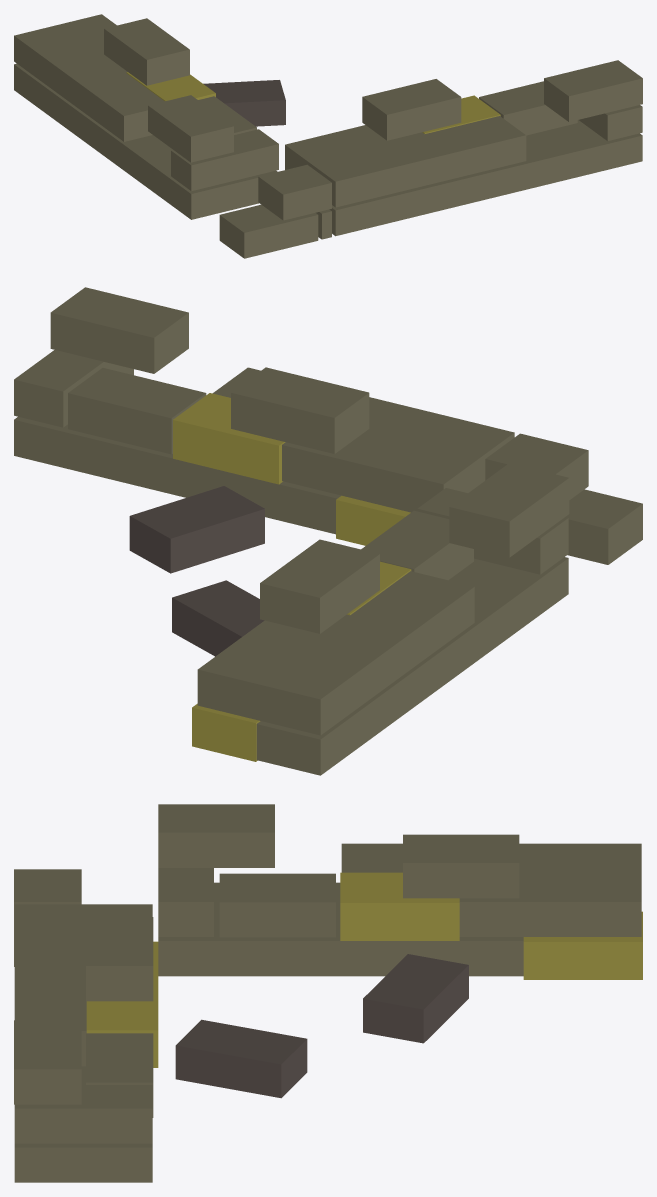
File: SM_PretilEsquina_v2_Irregular_e2_MuyDanado_LOD1.fbx
3 renders of one model, top to bottom at view 1: azimuth 30°, elevation 25°; view 2: azimuth 150°, elevation 25°; view 3: azimuth 270°, elevation 25°, orthographic. The views are drawn at different scales.
Visible parts, largest first — view 1: SM_pretil_azotea_v30_LOD1; view 2: SM_pretil_azotea_v30_LOD1; view 3: SM_pretil_azotea_v30_LOD1.
Part boxes in pixels (x1=…): SM_pretil_azotea_v30_LOD1: x1=14, y1=14, x2=642, y2=258; SM_pretil_azotea_v30_LOD1: x1=14, y1=287, x2=642, y2=775; SM_pretil_azotea_v30_LOD1: x1=14, y1=804, x2=642, y2=1182.
Size of the model in its own units: 4.37 by 0.885 by 4.38.
